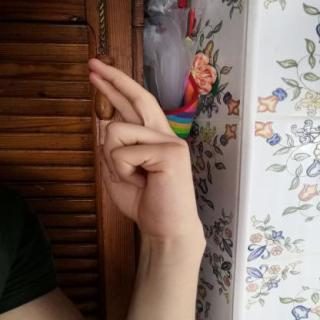ZAY: (78, 53, 214, 245)
